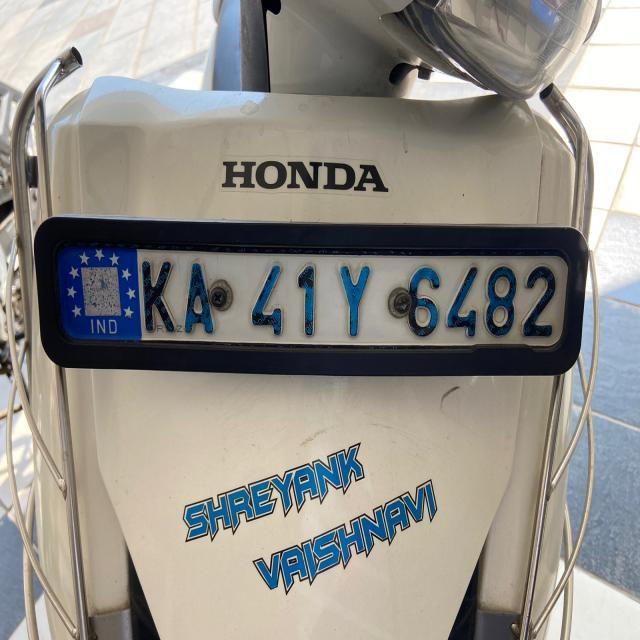1: (294, 258, 325, 339)
4: (246, 254, 290, 342), (442, 263, 481, 335)
6: (401, 266, 447, 344)
8: (484, 259, 522, 350)
A: (180, 259, 220, 346)
K: (138, 258, 184, 352)
Y: (334, 256, 372, 353)
